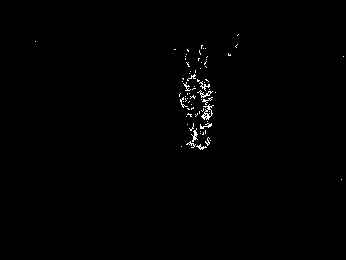person: (181, 70, 202, 148), (201, 81, 214, 149)
